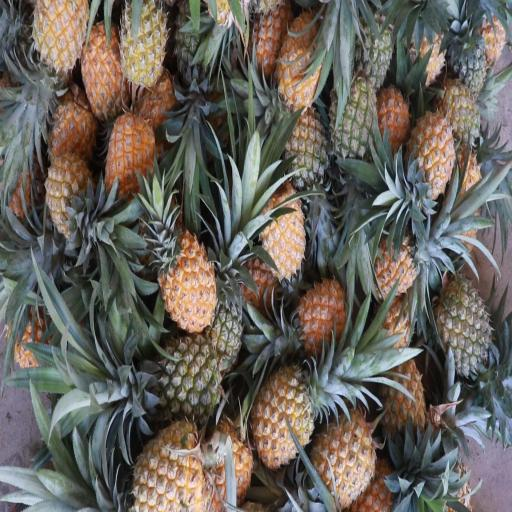------------------------------: (276, 86, 332, 191)
Pineapple - v8 v1: (248, 353, 326, 475), (306, 385, 381, 505), (117, 421, 208, 512), (100, 96, 162, 219), (369, 336, 427, 461), (154, 224, 218, 327), (361, 207, 424, 303), (404, 97, 461, 200), (252, 173, 310, 274), (273, 2, 327, 108), (75, 8, 129, 112), (430, 72, 489, 165), (42, 138, 94, 239), (114, 0, 170, 93), (30, 1, 88, 63)
